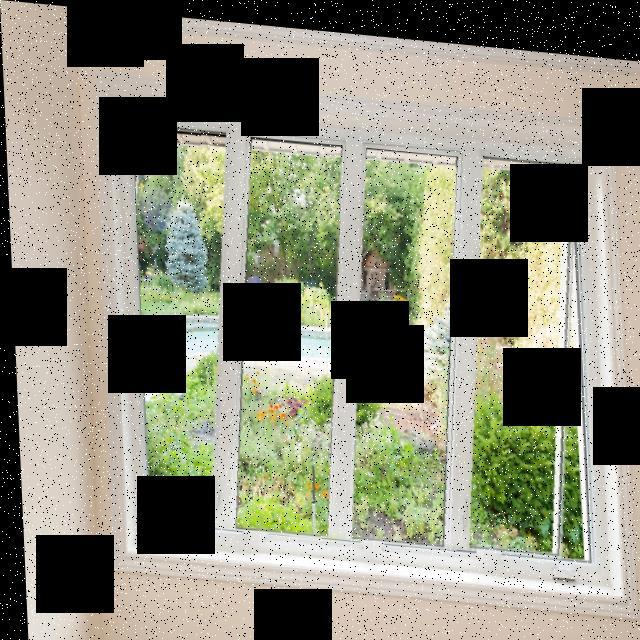Window: (132, 123, 590, 555)
